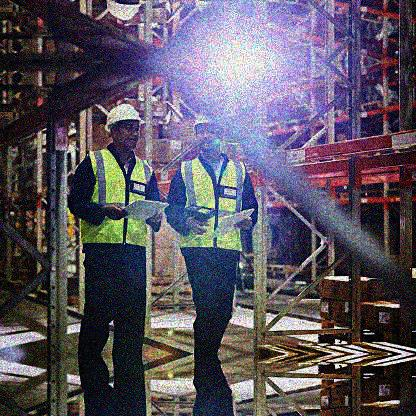helmet: (104, 104, 146, 154), (190, 107, 224, 159)
